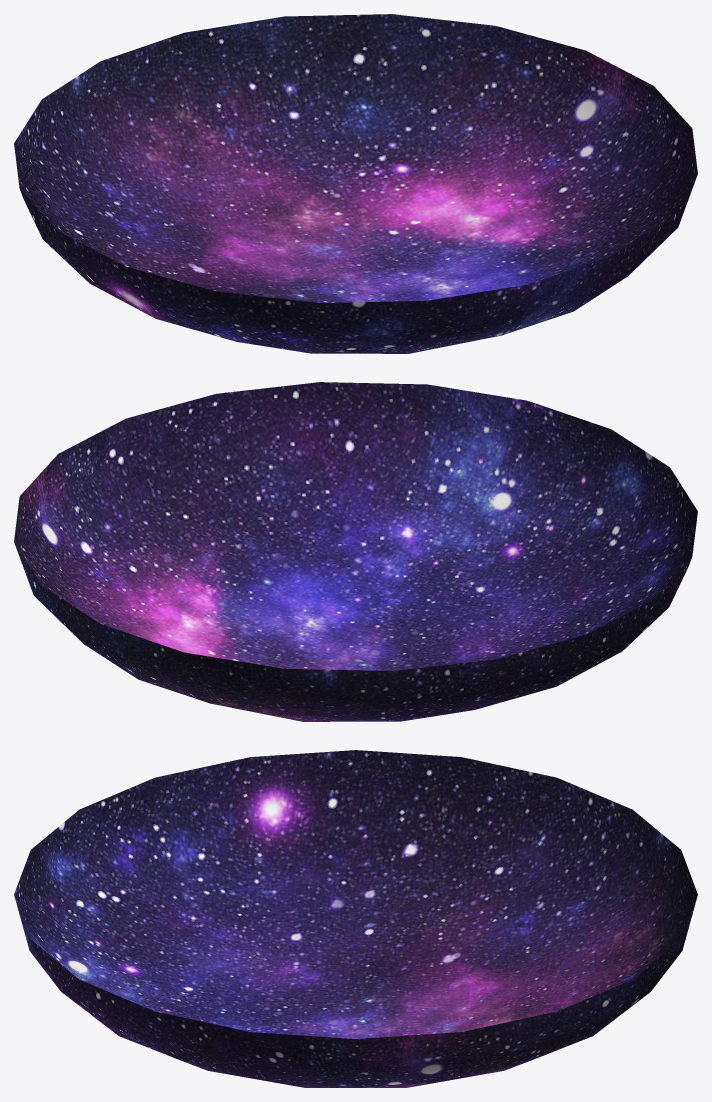
The model's file is vacio_nebula.FBX.
The picture shows the model from 3 angles, top to bottom: view 1: azimuth 30°, elevation 25°; view 2: azimuth 150°, elevation 25°; view 3: azimuth 270°, elevation 25°; orthographic projection.
Visible parts, largest first — view 1: GeoSphere001; view 2: GeoSphere001; view 3: GeoSphere001.
Part boxes in pixels (x1,y1,x2,y2): GeoSphere001: (14, 14, 697, 353); GeoSphere001: (14, 382, 697, 721); GeoSphere001: (14, 750, 697, 1087).
Bounding box in the file's own units: 180 × 38.74 × 180.
